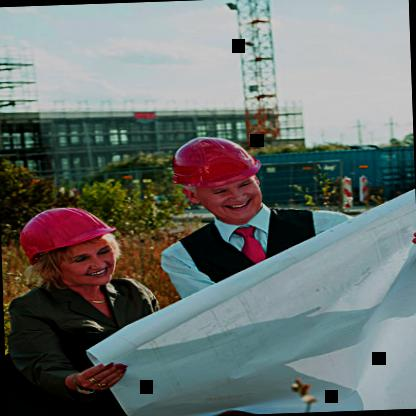helmet: (156, 124, 282, 232), (6, 198, 138, 300)
